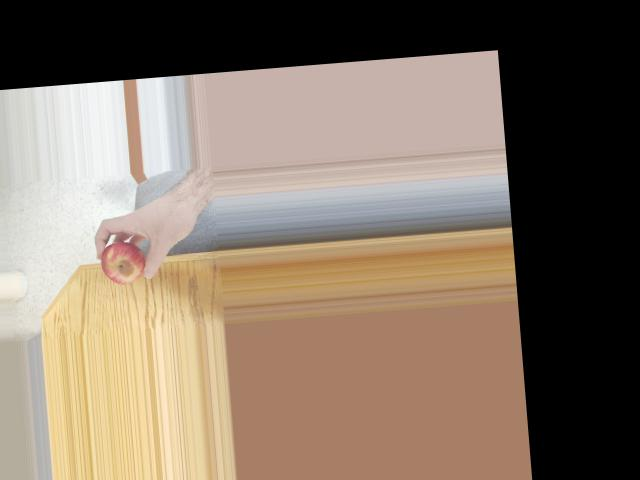apple: (95, 231, 159, 288)
